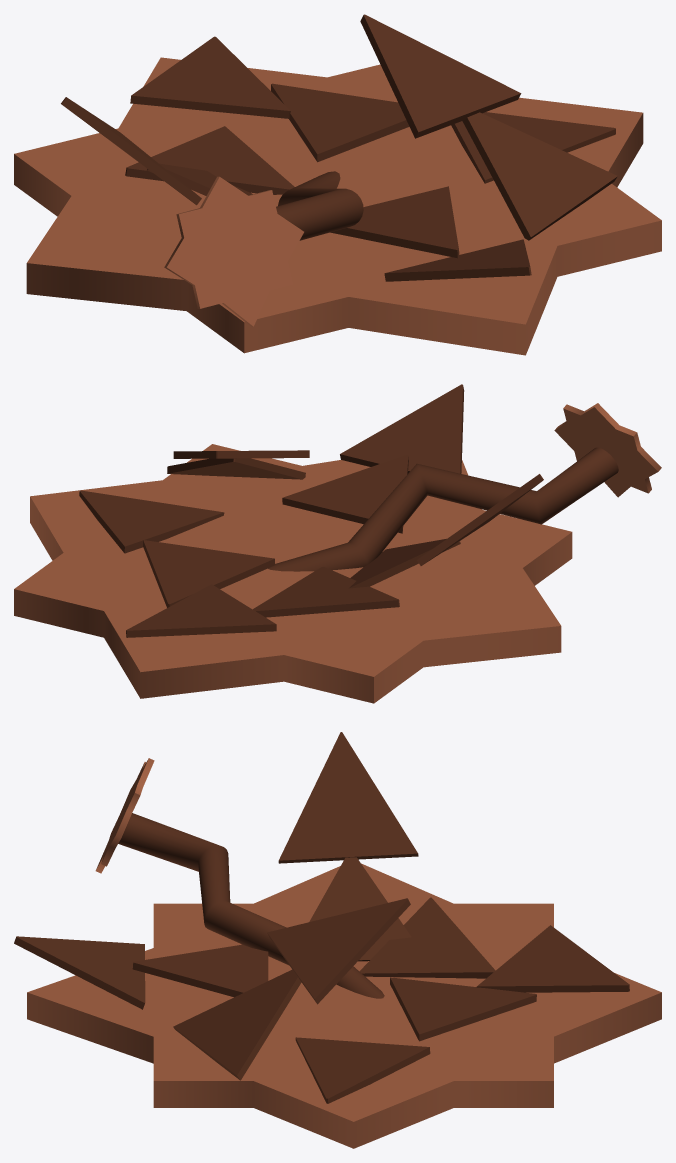
The model's file is WeedsDead.fbx.
3 views of the same model, one above another, from view 1: azimuth 30°, elevation 25°; view 2: azimuth 150°, elevation 25°; view 3: azimuth 270°, elevation 25° (orthographic). The views are drawn at different scales.
Visible parts, largest first — view 1: WeedsDead; view 2: WeedsDead; view 3: WeedsDead.
Boxes of the visible parts, box(x1,y1,x2,y2) form: WeedsDead: box(14, 14, 661, 355); WeedsDead: box(14, 384, 661, 703); WeedsDead: box(14, 732, 661, 1148).
Bounding box in the file's own units: 69.27 × 22.04 × 72.48.
